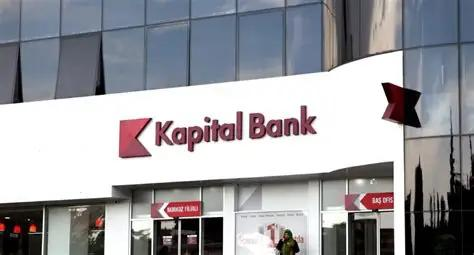Kapital Bank: (117, 116, 153, 158)
